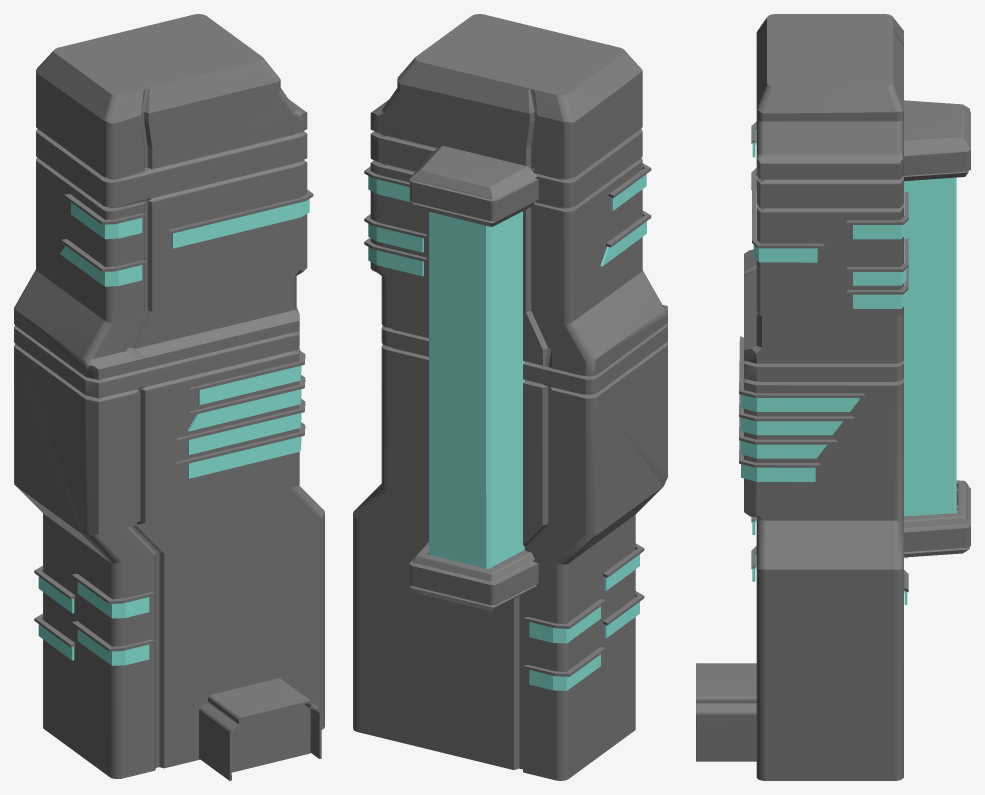
The model's file is Building_UV_0003.obj.
3 views of the same model, side by side, from view 1: azimuth 30°, elevation 25°; view 2: azimuth 150°, elevation 25°; view 3: azimuth 270°, elevation 25° (orthographic).
Visible parts, largest first — view 1: Building_UV_0003; view 2: Building_UV_0003; view 3: Building_UV_0003.
Part boxes in pixels (x1,y1,x2,y2): Building_UV_0003: (14,14,324,780); Building_UV_0003: (353,14,667,780); Building_UV_0003: (696,14,970,780).
Bounding box in the file's own units: 1932 × 5163 × 1929.
